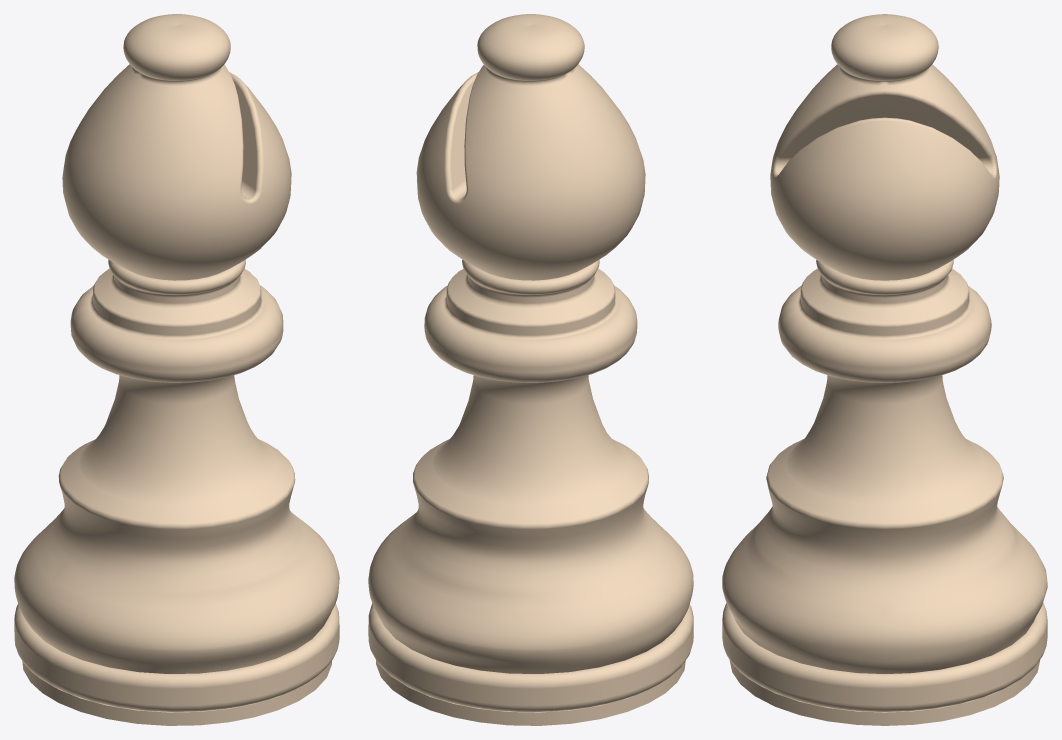
Rendered from BishopSilver.fbx.
The picture shows the model from 3 angles, left to right: view 1: azimuth 30°, elevation 25°; view 2: azimuth 150°, elevation 25°; view 3: azimuth 270°, elevation 25°; orthographic projection.
Parts seen in each view (by area): view 1: Слон; view 2: Слон; view 3: Слон.
Boxes of the visible parts, <box> form: Слон: <box>14,14,339,725</box>; Слон: <box>368,14,693,725</box>; Слон: <box>722,14,1047,725</box>.
Size of the model in its own units: 1.94 by 4.17 by 1.94.
